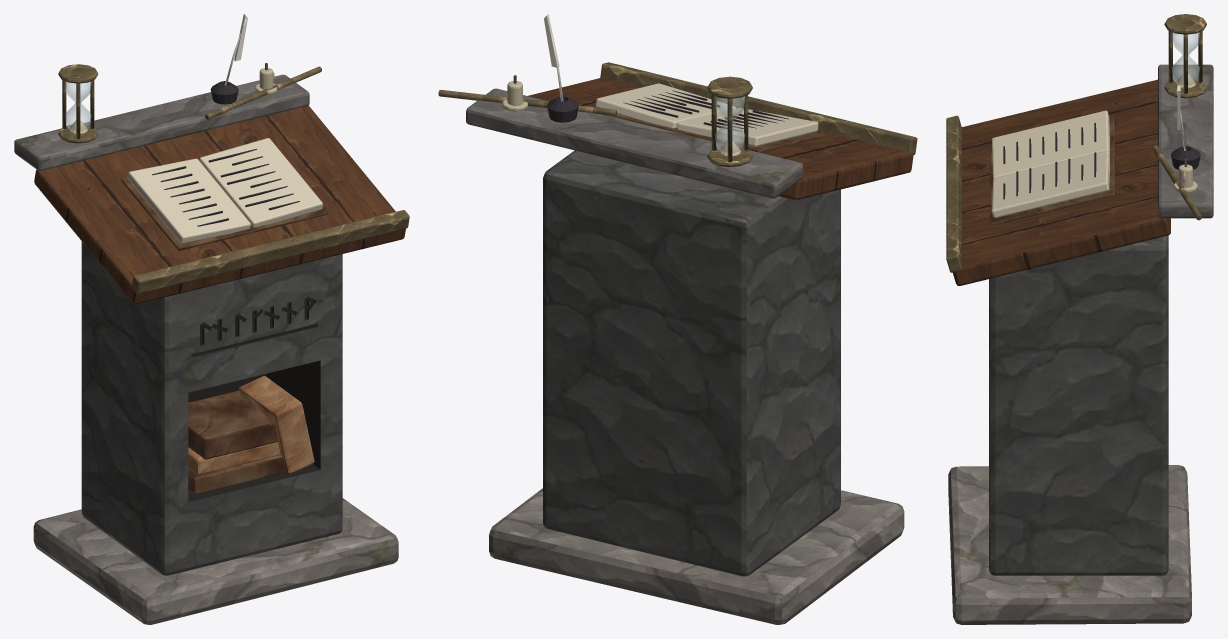
The model's file is rs_keeper_log_desk.glb.
The picture shows the model from 3 angles, left to right: view 1: azimuth 30°, elevation 25°; view 2: azimuth 150°, elevation 25°; view 3: azimuth 270°, elevation 25°; orthographic projection. The views are drawn at different scales.
Visible parts, largest first — view 1: model; view 2: model; view 3: model.
Part boxes in pixels (x1,y1,x2,y2): model: (14, 14, 409, 624); model: (438, 14, 917, 624); model: (946, 14, 1213, 624).
Size of the model in its own units: 0.8644 by 1.33 by 0.6242.
Materials: 16 (8 with a texture image).
